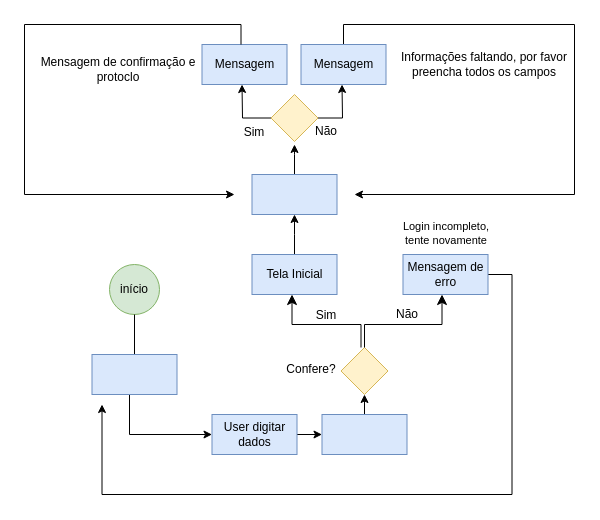
Some shapes in this 600 by 520 pixel diagram are drawn without their labels. The shapes that lost their labels are listed below. From the top down, each one's centre as x and y in pixels, then its label:
(294,194): Informações
(134,374): Login
(364,434): Recuperar dados
